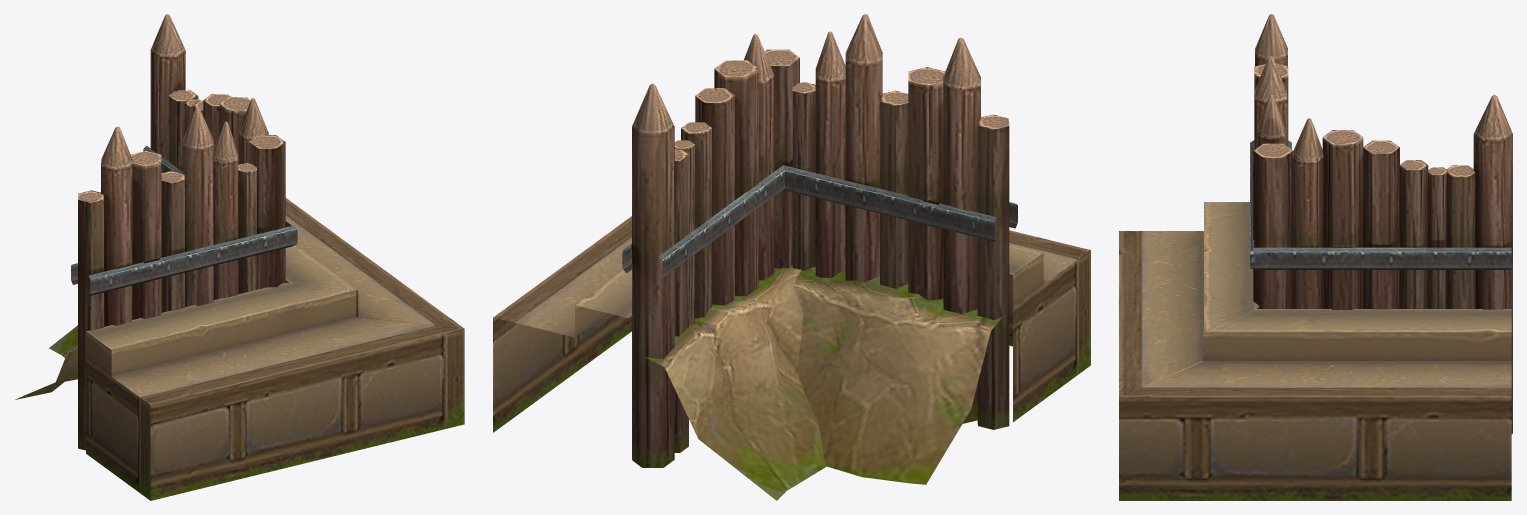
The model's file is ShiJie_ChengQiang_15.FBX.
The picture shows the model from 3 angles, left to right: view 1: azimuth 30°, elevation 25°; view 2: azimuth 150°, elevation 25°; view 3: azimuth 270°, elevation 25°; orthographic projection. The views are drawn at different scales.
Visible parts, largest first — view 1: ShiJie_ChengQiang_15; view 2: ShiJie_ChengQiang_15; view 3: ShiJie_ChengQiang_15.
Boxes of the visible parts, left/top/right/bottom form: ShiJie_ChengQiang_15: left=15, top=14, right=464, bottom=500; ShiJie_ChengQiang_15: left=493, top=14, right=1090, bottom=500; ShiJie_ChengQiang_15: left=1119, top=14, right=1512, bottom=500.
Bounding box in the file's own units: 82.55 × 79.65 × 81.98.
